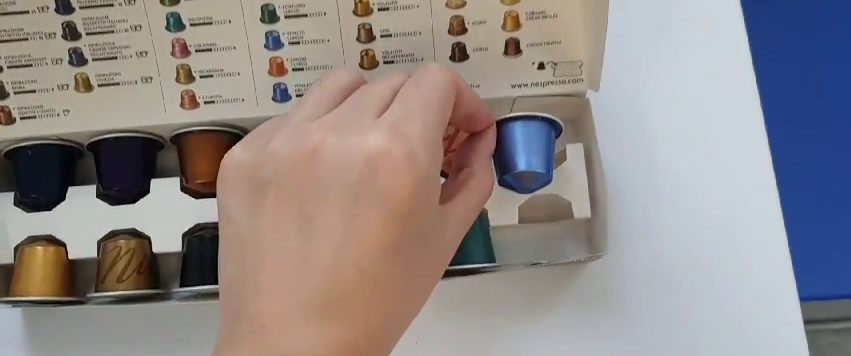capsule_7: (481, 110, 567, 195)
